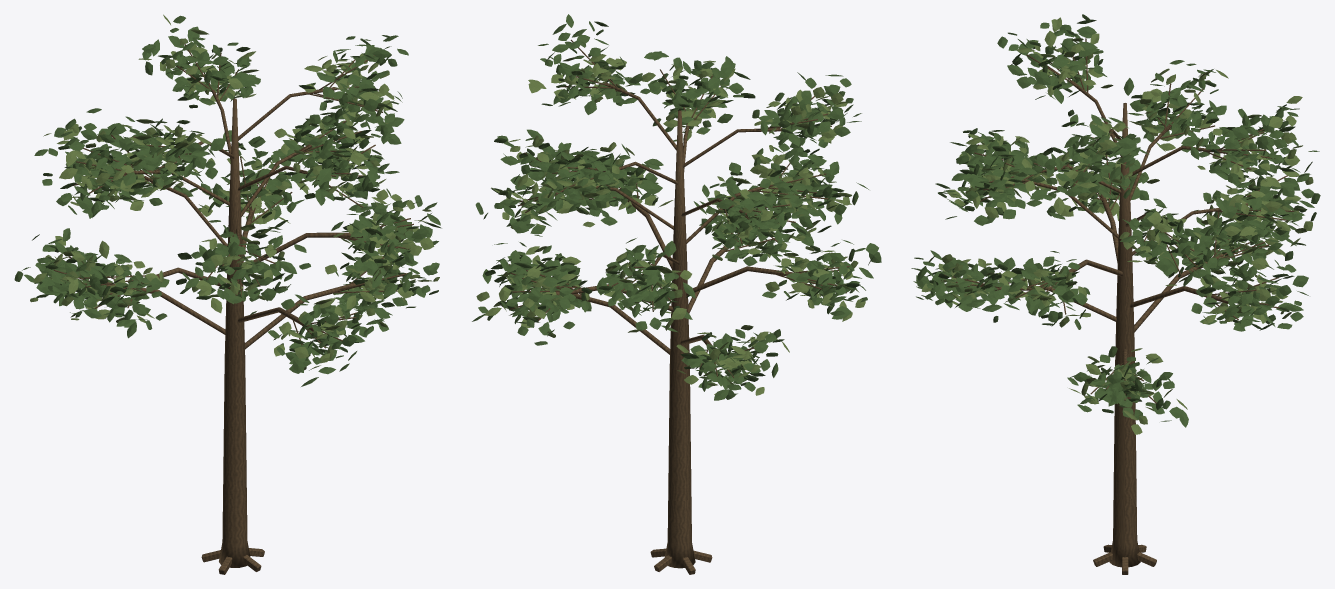
Rendered from broadleaf_tree.glb.
3 renders of one model, left to right at view 1: azimuth 30°, elevation 25°; view 2: azimuth 150°, elevation 25°; view 3: azimuth 270°, elevation 25°, orthographic. The views are drawn at different scales.
Visible parts, largest first — view 1: Tree.002; view 2: Tree.002; view 3: Tree.002.
Part boxes in pixels (left/top/right/bottom): Tree.002: left=14, top=14, right=441, bottom=574; Tree.002: left=472, top=14, right=881, bottom=574; Tree.002: left=911, top=14, right=1320, bottom=574.
Bounding box in the file's own units: 6 × 7.64 × 5.62.
3 materials, 3 textured.
